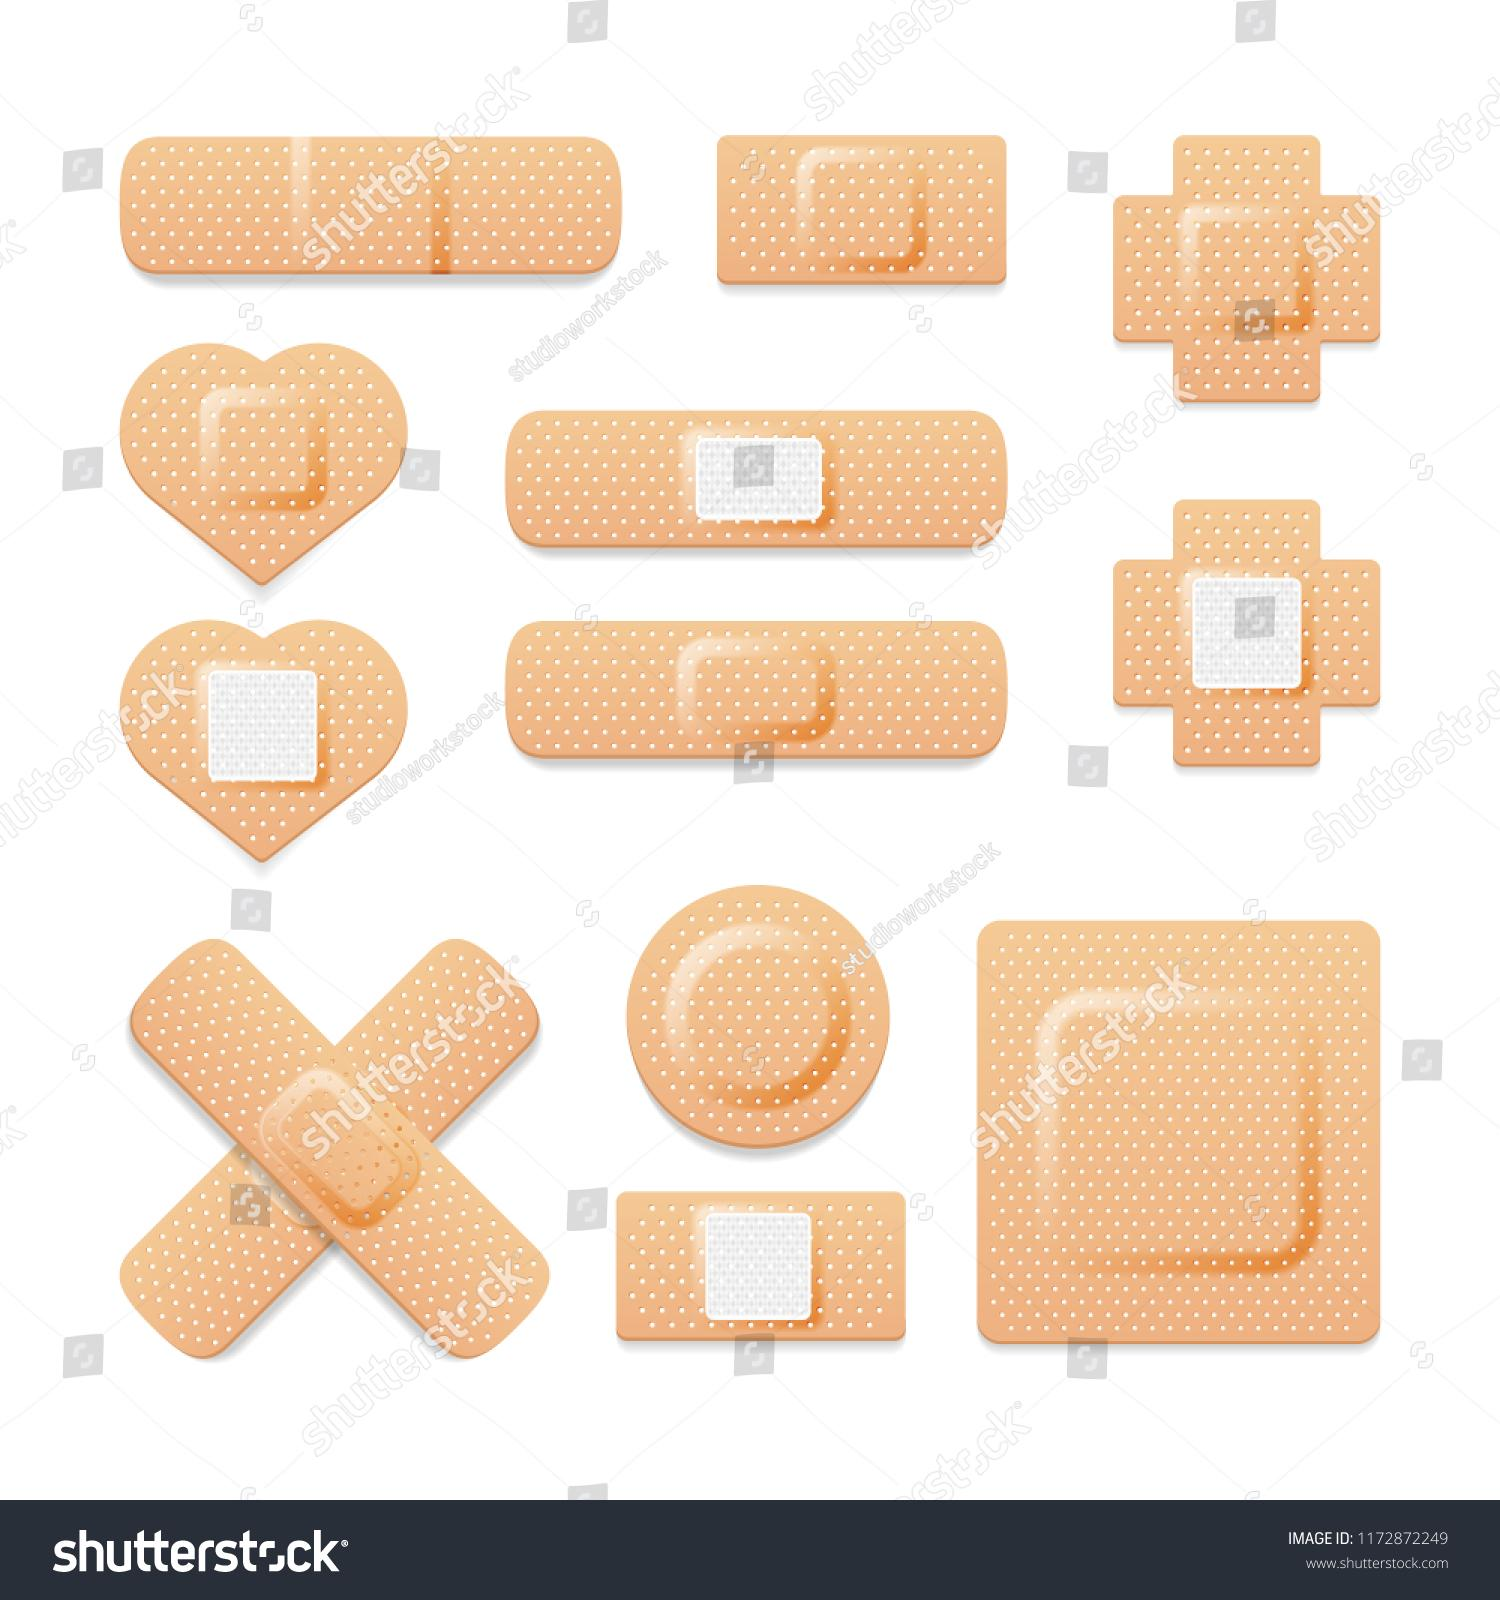bandage: (72, 925, 572, 1365), (966, 899, 1397, 1390), (485, 400, 1053, 568), (75, 133, 625, 303), (1108, 488, 1403, 802), (491, 602, 1045, 765), (1090, 133, 1393, 417), (97, 345, 436, 585), (97, 620, 423, 863), (612, 875, 895, 1150), (692, 123, 1040, 317), (595, 1183, 932, 1355)
